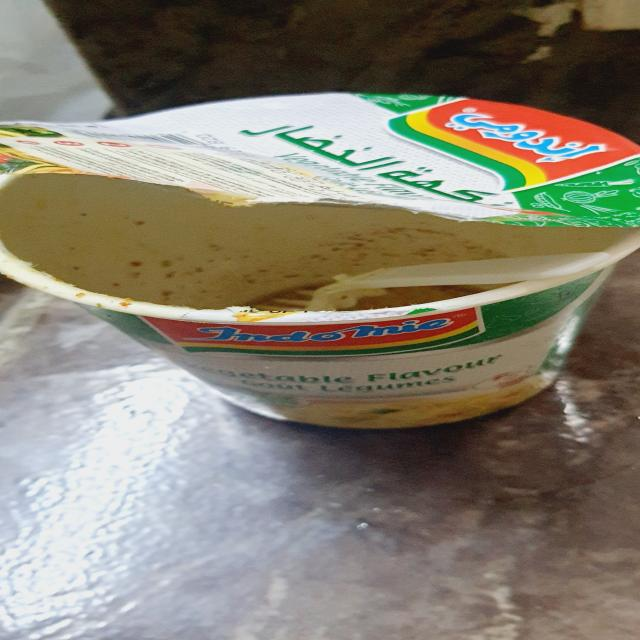paper: (0, 90, 640, 438)
